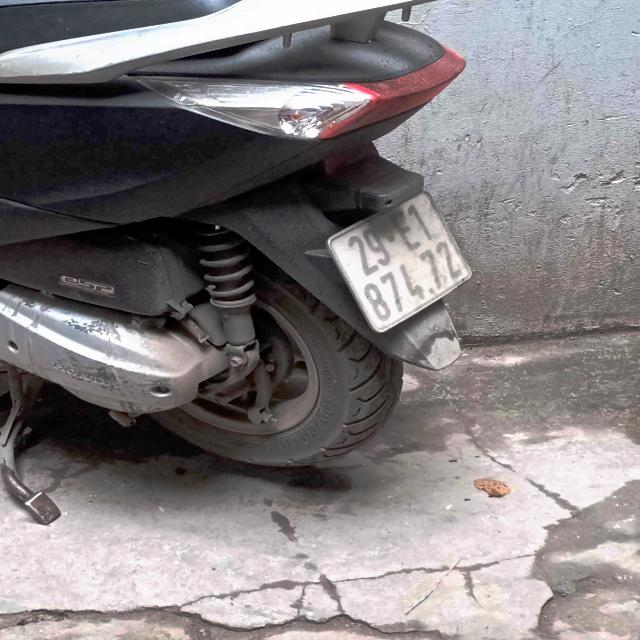license_plate: (316, 183, 483, 339)
